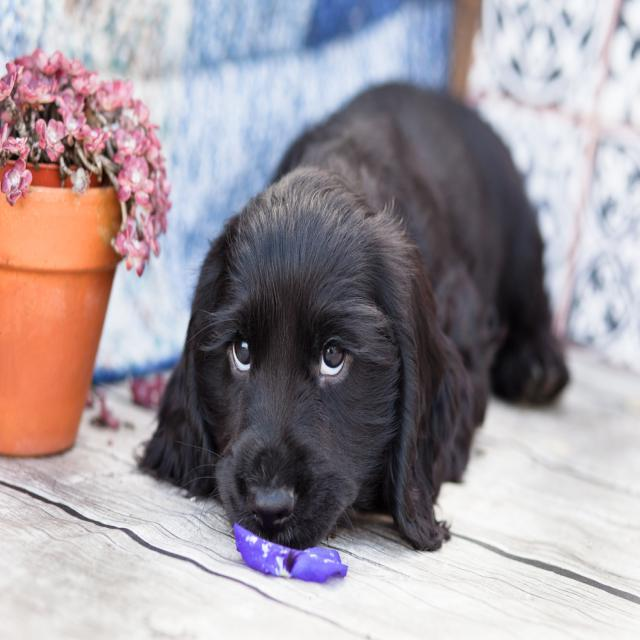dog: (151, 157, 482, 582)
